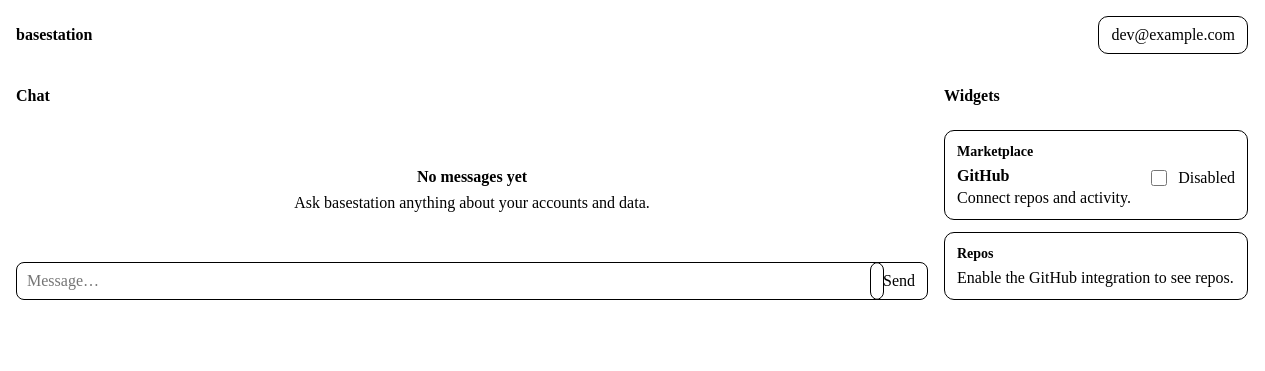
App › should allow enabling the GitHub integration
Click the checkbox named "Enable GitHub integration": (1159, 178) [1151,170,1167,186]
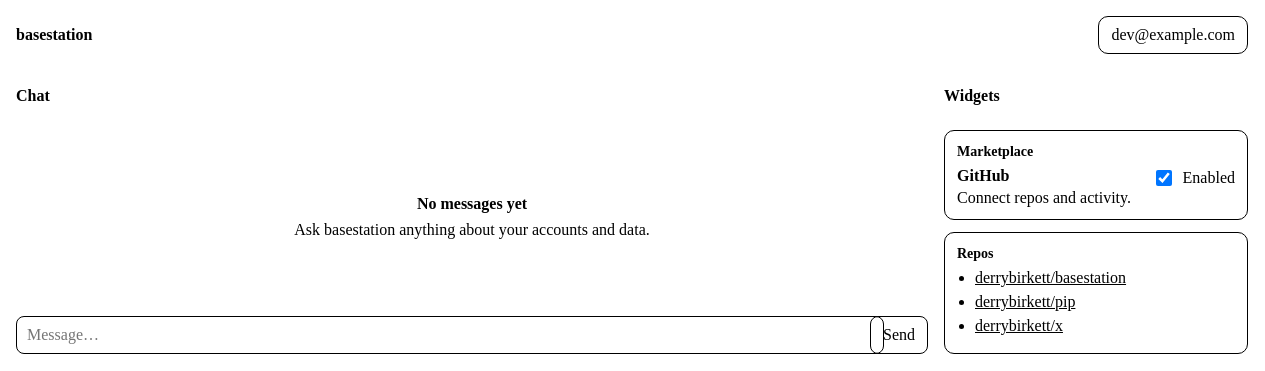
Result: the checkbox named "Enable GitHub integration" is checked at [1156,170,1172,186]
Result: the link "derrybirkett/basestation" is shown at [975,269,1126,286]
